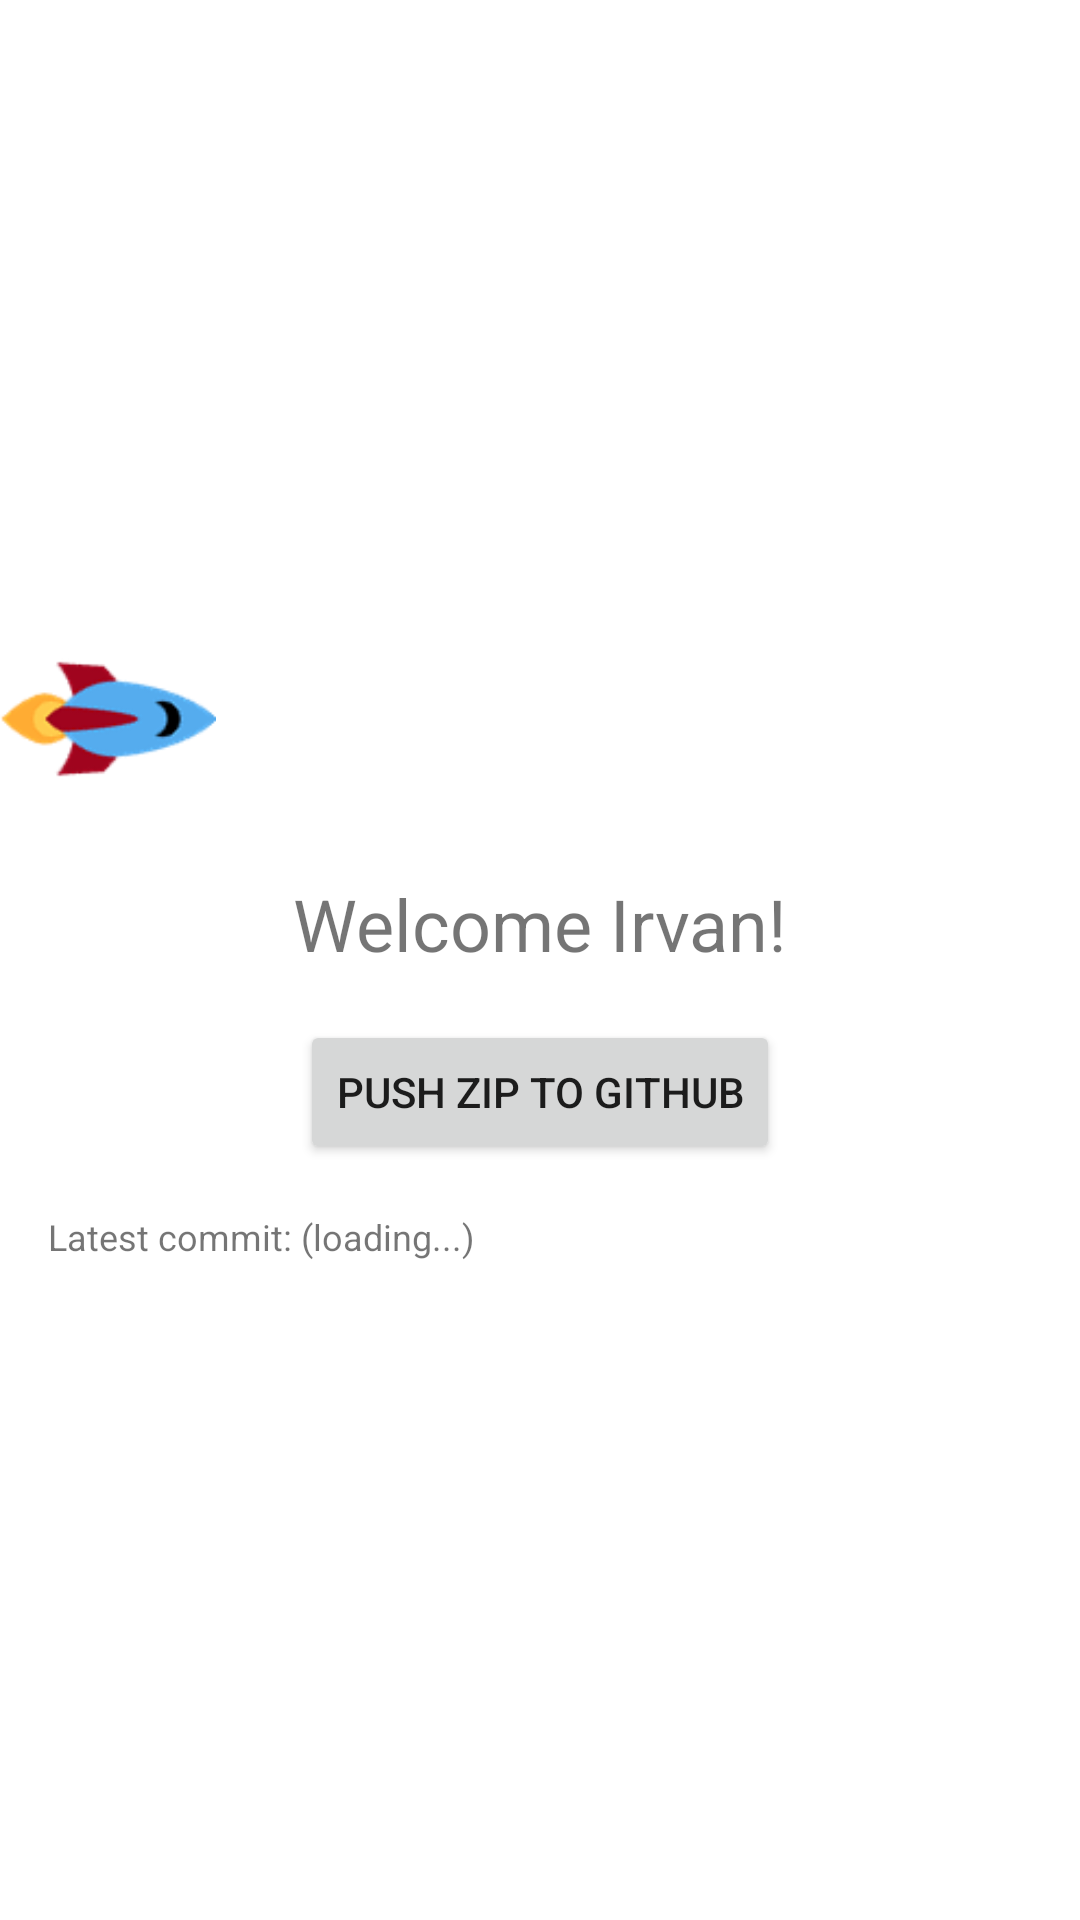

Screen size 1080px x 1920px. Icon name, then its box in pixels as (x1, y1, x2, y2):
Rocket: (1, 662, 216, 776)
